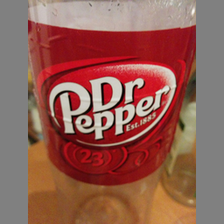soda: (29, 1, 195, 224)
